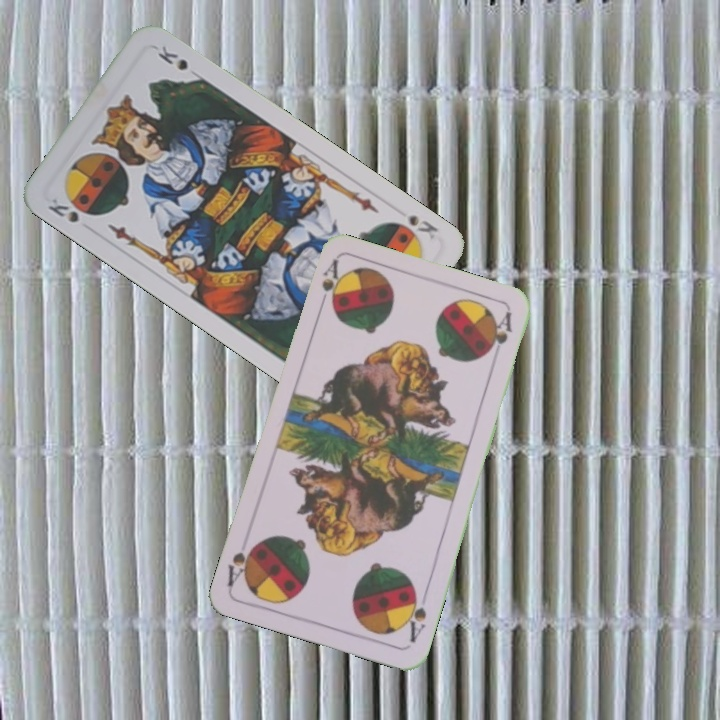SA: (400, 586, 429, 645), (314, 257, 342, 314)
SK: (402, 210, 441, 243), (44, 194, 82, 226)
